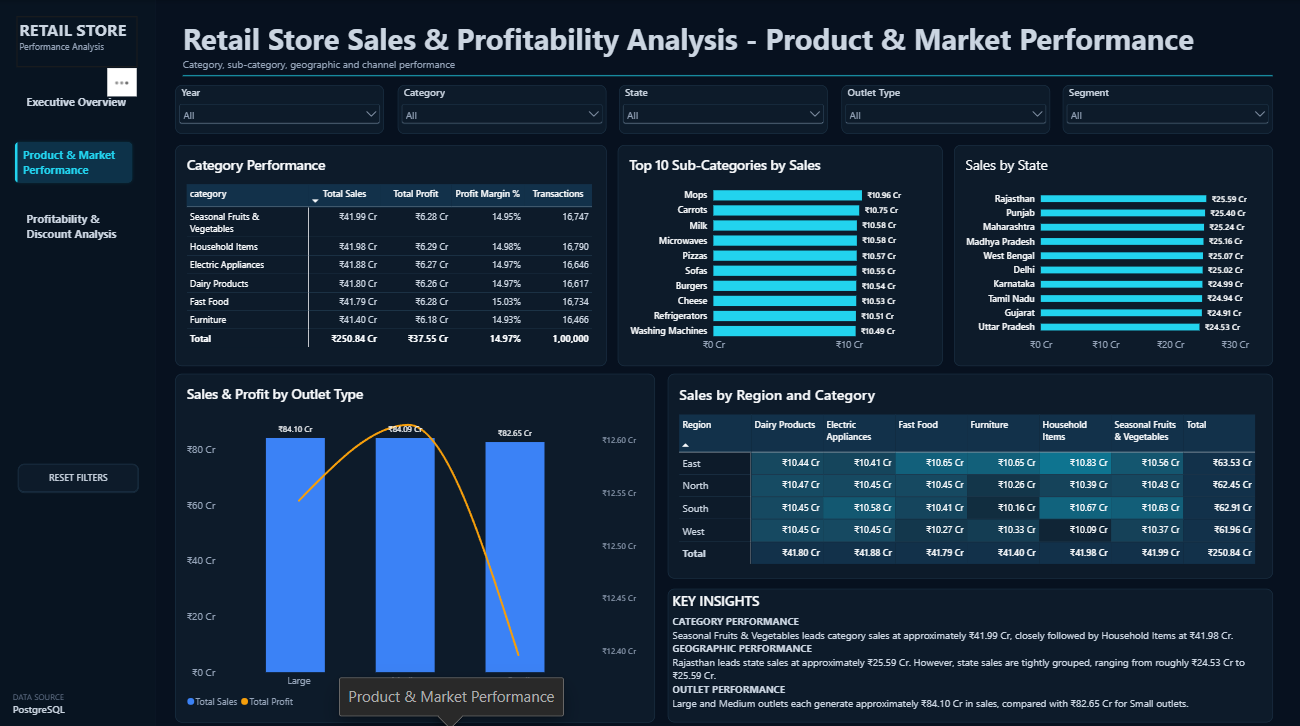

The page's visual inventory and layout, read from the dashboard file:
{"tool":"powerbi","page":{"name":"Product & Market Performance","canvas":[1920,1080],"ordinal":1},"visuals":[{"type":"shape","box":[0,0,230,1080],"z":0},{"type":"textbox","box":[25.8,23.9,178.5,76],"z":1000},{"type":"pageNavigator","box":[18.4,112.3,189.6,262],"z":2000},{"type":"slicer","fields":{"Values":["DimDate.Year"]},"box":[259.5,125.2,307.4,71.8],"z":3000},{"type":"slicer","fields":{"Values":["FactSales.category"]},"box":[586.2,125.2,307.4,71.8],"z":4000},{"type":"slicer","fields":{"Values":["FactSales.state"]},"box":[912.9,125.2,307.4,71.8],"z":5000},{"type":"slicer","fields":{"Values":["FactSales.segment"]},"box":[1566.3,125.2,309.2,71.8],"z":6000},{"type":"textbox","box":[270.6,27.6,1604.9,57.1],"z":7000},{"type":"textbox","box":[270,85,950,28],"z":8000},{"type":"shape","box":[270.6,88.3,1604.9,46],"z":9000},{"type":"actionButton","box":[27.6,682.8,178.7,42.8],"z":10000},{"type":"slicer","fields":{"Values":["FactSales.outlet_type"]},"box":[1239.6,125.2,307.4,71.8],"z":11000},{"type":"pivotTable","title":"Category Performance","fields":{"Rows":["FactSales.category"],"Values":["FactSales.Total Sales","FactSales.Total Profit","FactSales.Profit Margin %","FactSales.Transactions"]},"box":[259.5,213.5,635,325.8],"z":12000},{"type":"clusteredBarChart","title":"Top 10 Sub-Categories by Sales","fields":{"Category":["FactSales.sub_category"],"Y":["FactSales.Total Sales"]},"box":[911,213.5,478.5,325.8],"z":13000},{"type":"textbox","box":[20.2,1016,110.4,47.9],"z":14000},{"type":"clusteredBarChart","title":"Sales by State","fields":{"Category":["FactSales.state"],"Y":["FactSales.Total Sales"]},"box":[1406.1,213.5,469.3,325.8],"z":15000},{"type":"pivotTable","title":"Sales by Region and Category","fields":{"Columns":["FactSales.category"],"Rows":["FactSales.region"],"Values":["FactSales.Total Sales"]},"box":[984.7,550.3,890.8,301.8],"z":16000},{"type":"lineClusteredColumnComboChart","title":"Sales & Profit by Outlet Type","fields":{"Category":["FactSales.outlet_type"],"Y":["FactSales.Total Sales"],"Y2":["FactSales.Total Profit"]},"box":[259.5,550.3,706.8,513.5],"z":17000},{"type":"textbox","title":"KEY INSIGHTS","box":[984.7,866.9,890.8,196.9],"z":18000}]}

Visuals, with their boxes on the page's 1920x1080 design canvas (x1, y1, x2, y2). These are canvas units, not pixel positions in the 1300x726 screenshot, which may show the page scaled, cropped or inside an application window:
shape: detection(0, 0, 230, 1080)
textbox: detection(26, 24, 204, 100)
pageNavigator: detection(18, 112, 208, 374)
slicer - DimDate.Year: detection(260, 125, 567, 197)
slicer - FactSales.category: detection(586, 125, 894, 197)
slicer - FactSales.state: detection(913, 125, 1220, 197)
slicer - FactSales.segment: detection(1566, 125, 1876, 197)
textbox: detection(271, 28, 1876, 85)
textbox: detection(270, 85, 1220, 113)
shape: detection(271, 88, 1876, 134)
actionButton: detection(28, 683, 206, 726)
slicer - FactSales.outlet_type: detection(1240, 125, 1547, 197)
"Category Performance" pivotTable: detection(260, 214, 894, 539)
"Top 10 Sub-Categories by Sales" clusteredBarChart: detection(911, 214, 1390, 539)
textbox: detection(20, 1016, 131, 1064)
"Sales by State" clusteredBarChart: detection(1406, 214, 1875, 539)
"Sales by Region and Category" pivotTable: detection(985, 550, 1876, 852)
"Sales & Profit by Outlet Type" lineClusteredColumnComboChart: detection(260, 550, 966, 1064)
"KEY INSIGHTS" textbox: detection(985, 867, 1876, 1064)
